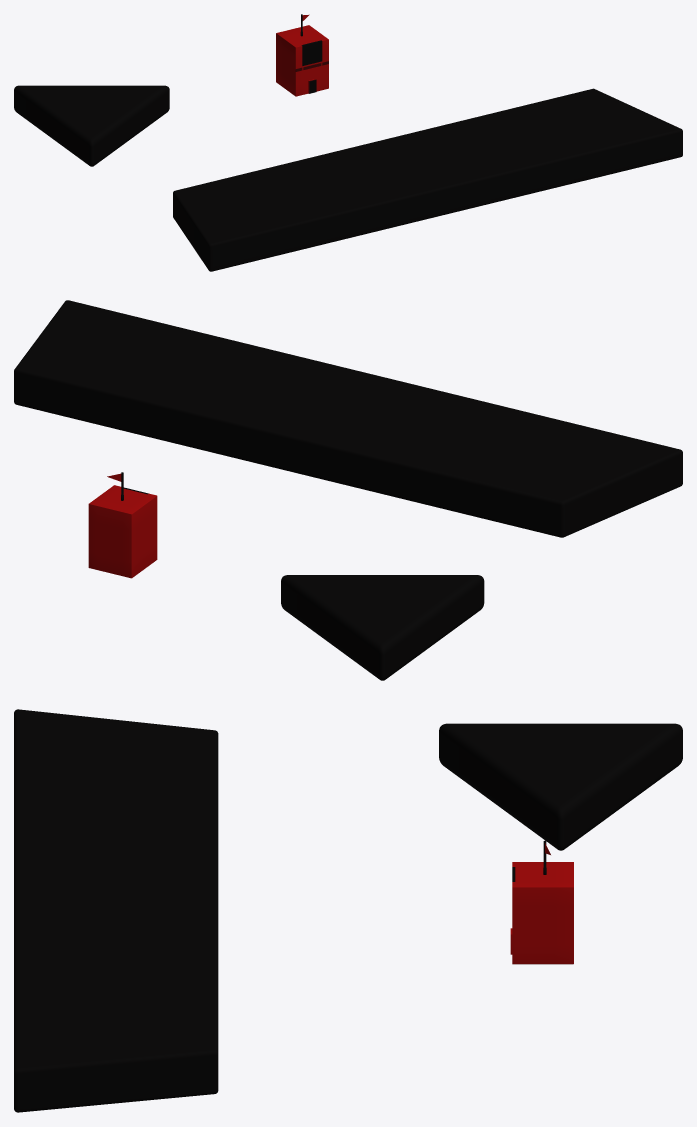
Rendered from kule-duvar-çember-üçgen.fbx.
3 renders of one model, top to bottom at view 1: azimuth 30°, elevation 25°; view 2: azimuth 150°, elevation 25°; view 3: azimuth 270°, elevation 25°, orthographic. The views are drawn at different scales.
Visible parts, largest first — view 1: Cylinder002, Cylinder001, Box001; view 2: Cylinder002, Cylinder001, Box001; view 3: Cylinder002, Cylinder001, Box001.
Boxes of the visible parts, x1=… form: Cylinder002: x1=173, y1=88, x2=682, y2=271; Cylinder001: x1=14, y1=85, x2=169, y2=166; Box001: x1=276, y1=25, x2=328, y2=96; Cylinder002: x1=14, y1=300, x2=682, y2=537; Cylinder001: x1=281, y1=575, x2=484, y2=680; Box001: x1=88, y1=485, x2=157, y2=578; Cylinder002: x1=14, y1=709, x2=218, y2=1112; Cylinder001: x1=439, y1=723, x2=682, y2=850; Box001: x1=510, y1=862, x2=573, y2=964.
Bounding box in the file's own units: 354 × 50.51 × 277.
